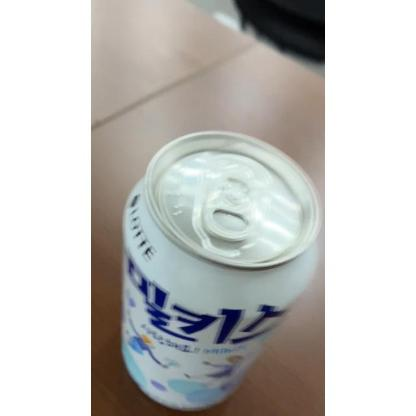Can: (121, 128, 325, 414)
